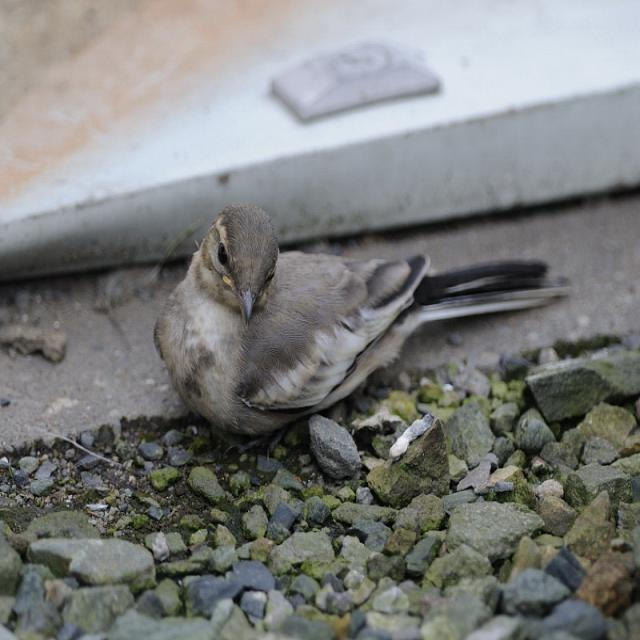bird: (154, 204, 562, 437)
